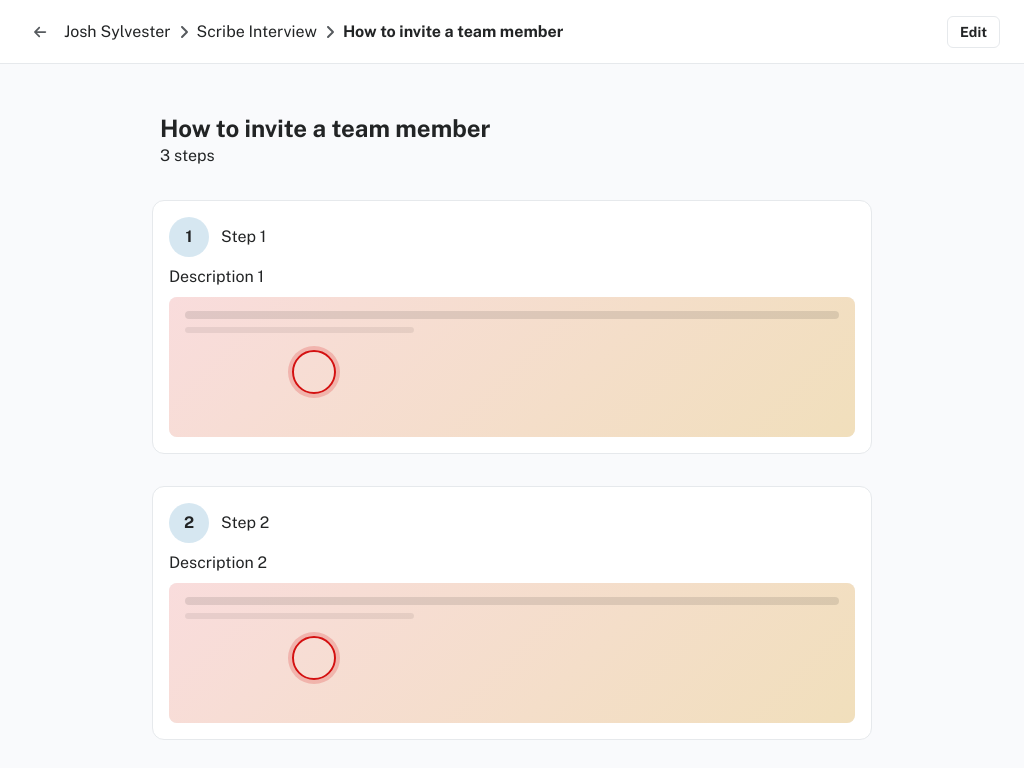
Test case: App: delete and undo › deletes a step, shows Undo in its place, and moves focus
The image size is (1024, 768).
What coordinates should you click on to do the following:
click the button "Edit"
I would click on:
 (974, 32)
Its box is [947,16,1000,48].
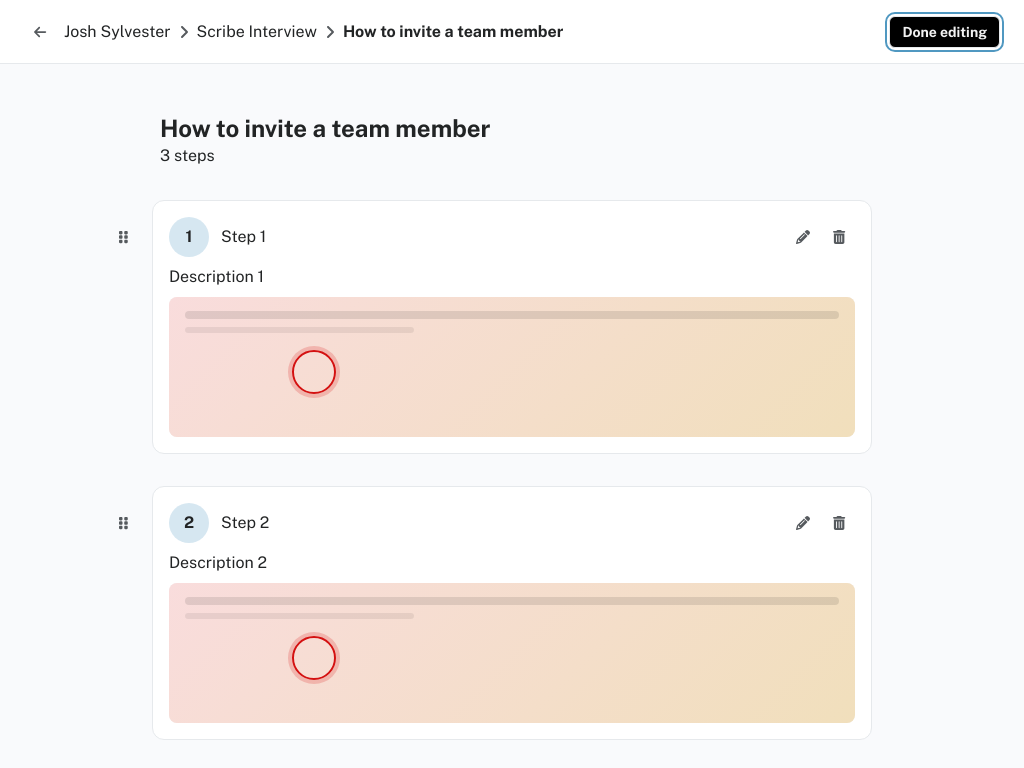
What coordinates should you click on to do the following:
click the button named "Delete Step 2"
I would click on:
 (839, 523)
Its box is [823,507,855,539].
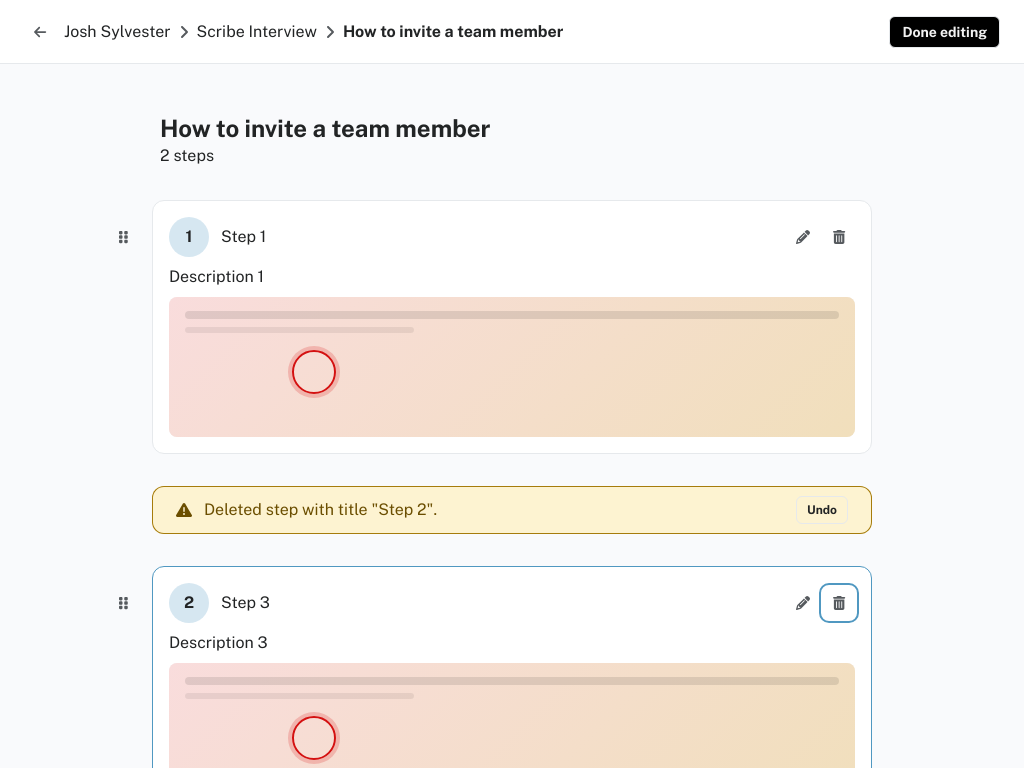
expect the text "2 steps" is shown: met, box [160,146,214,165]
expect the button "Undo" is shown: met, box [796,496,848,524]
